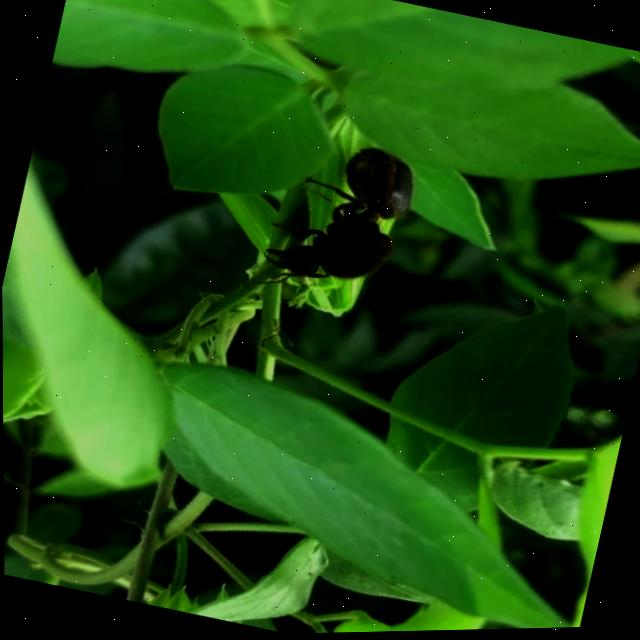Alive-Female-Dealate: (240, 126, 423, 319)
